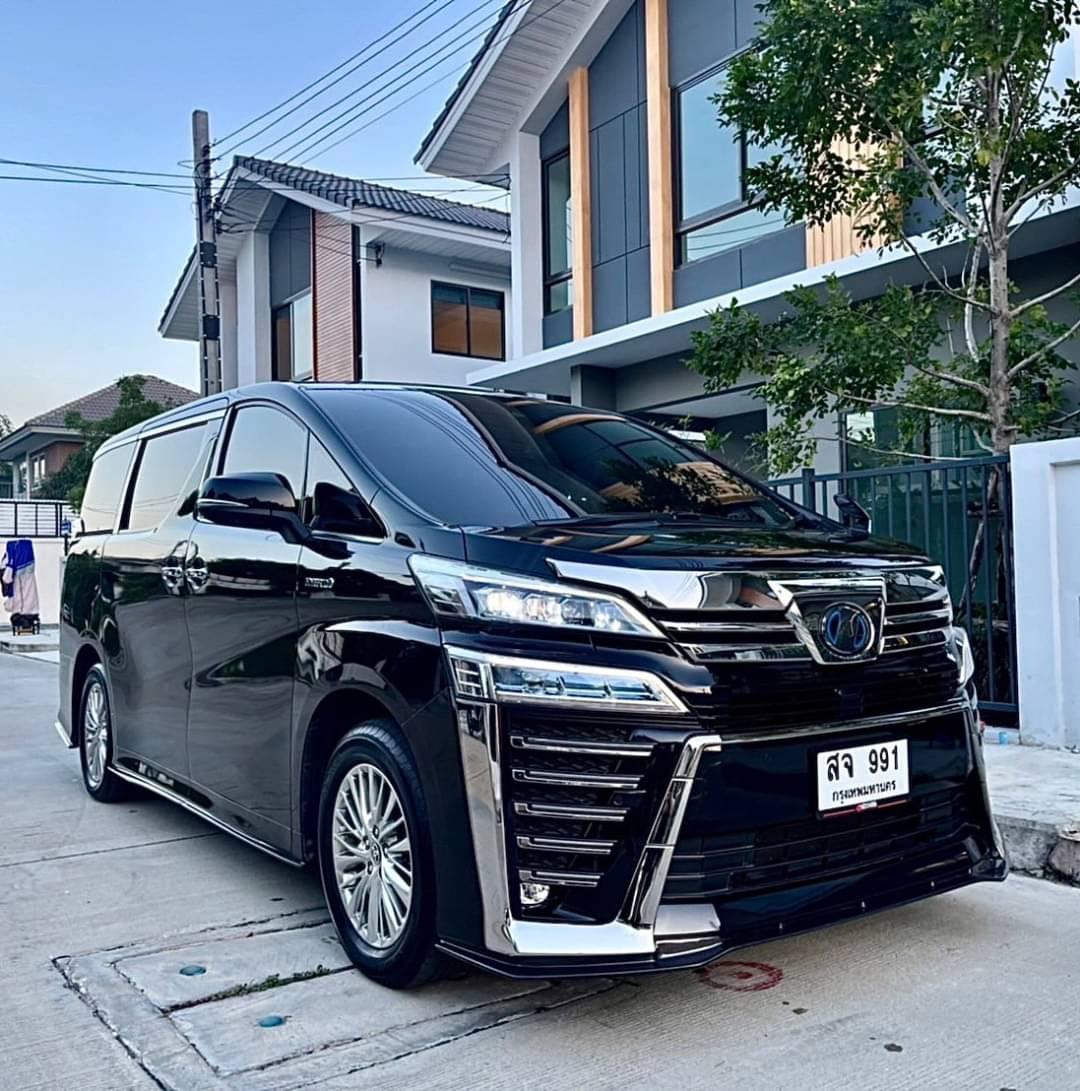license-plate: (812, 729, 914, 816)
